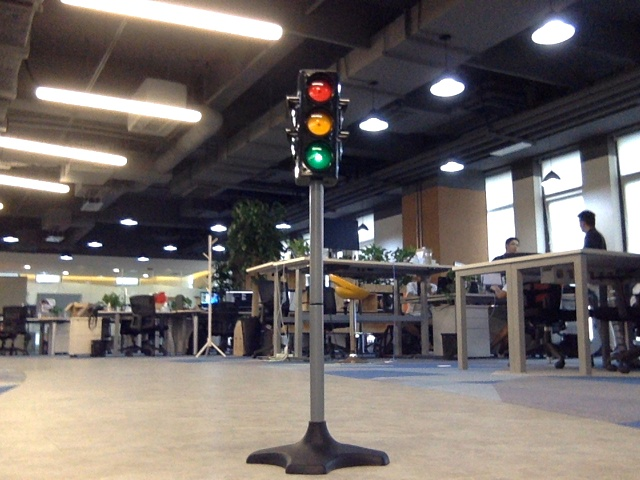green: (298, 80, 331, 174)
